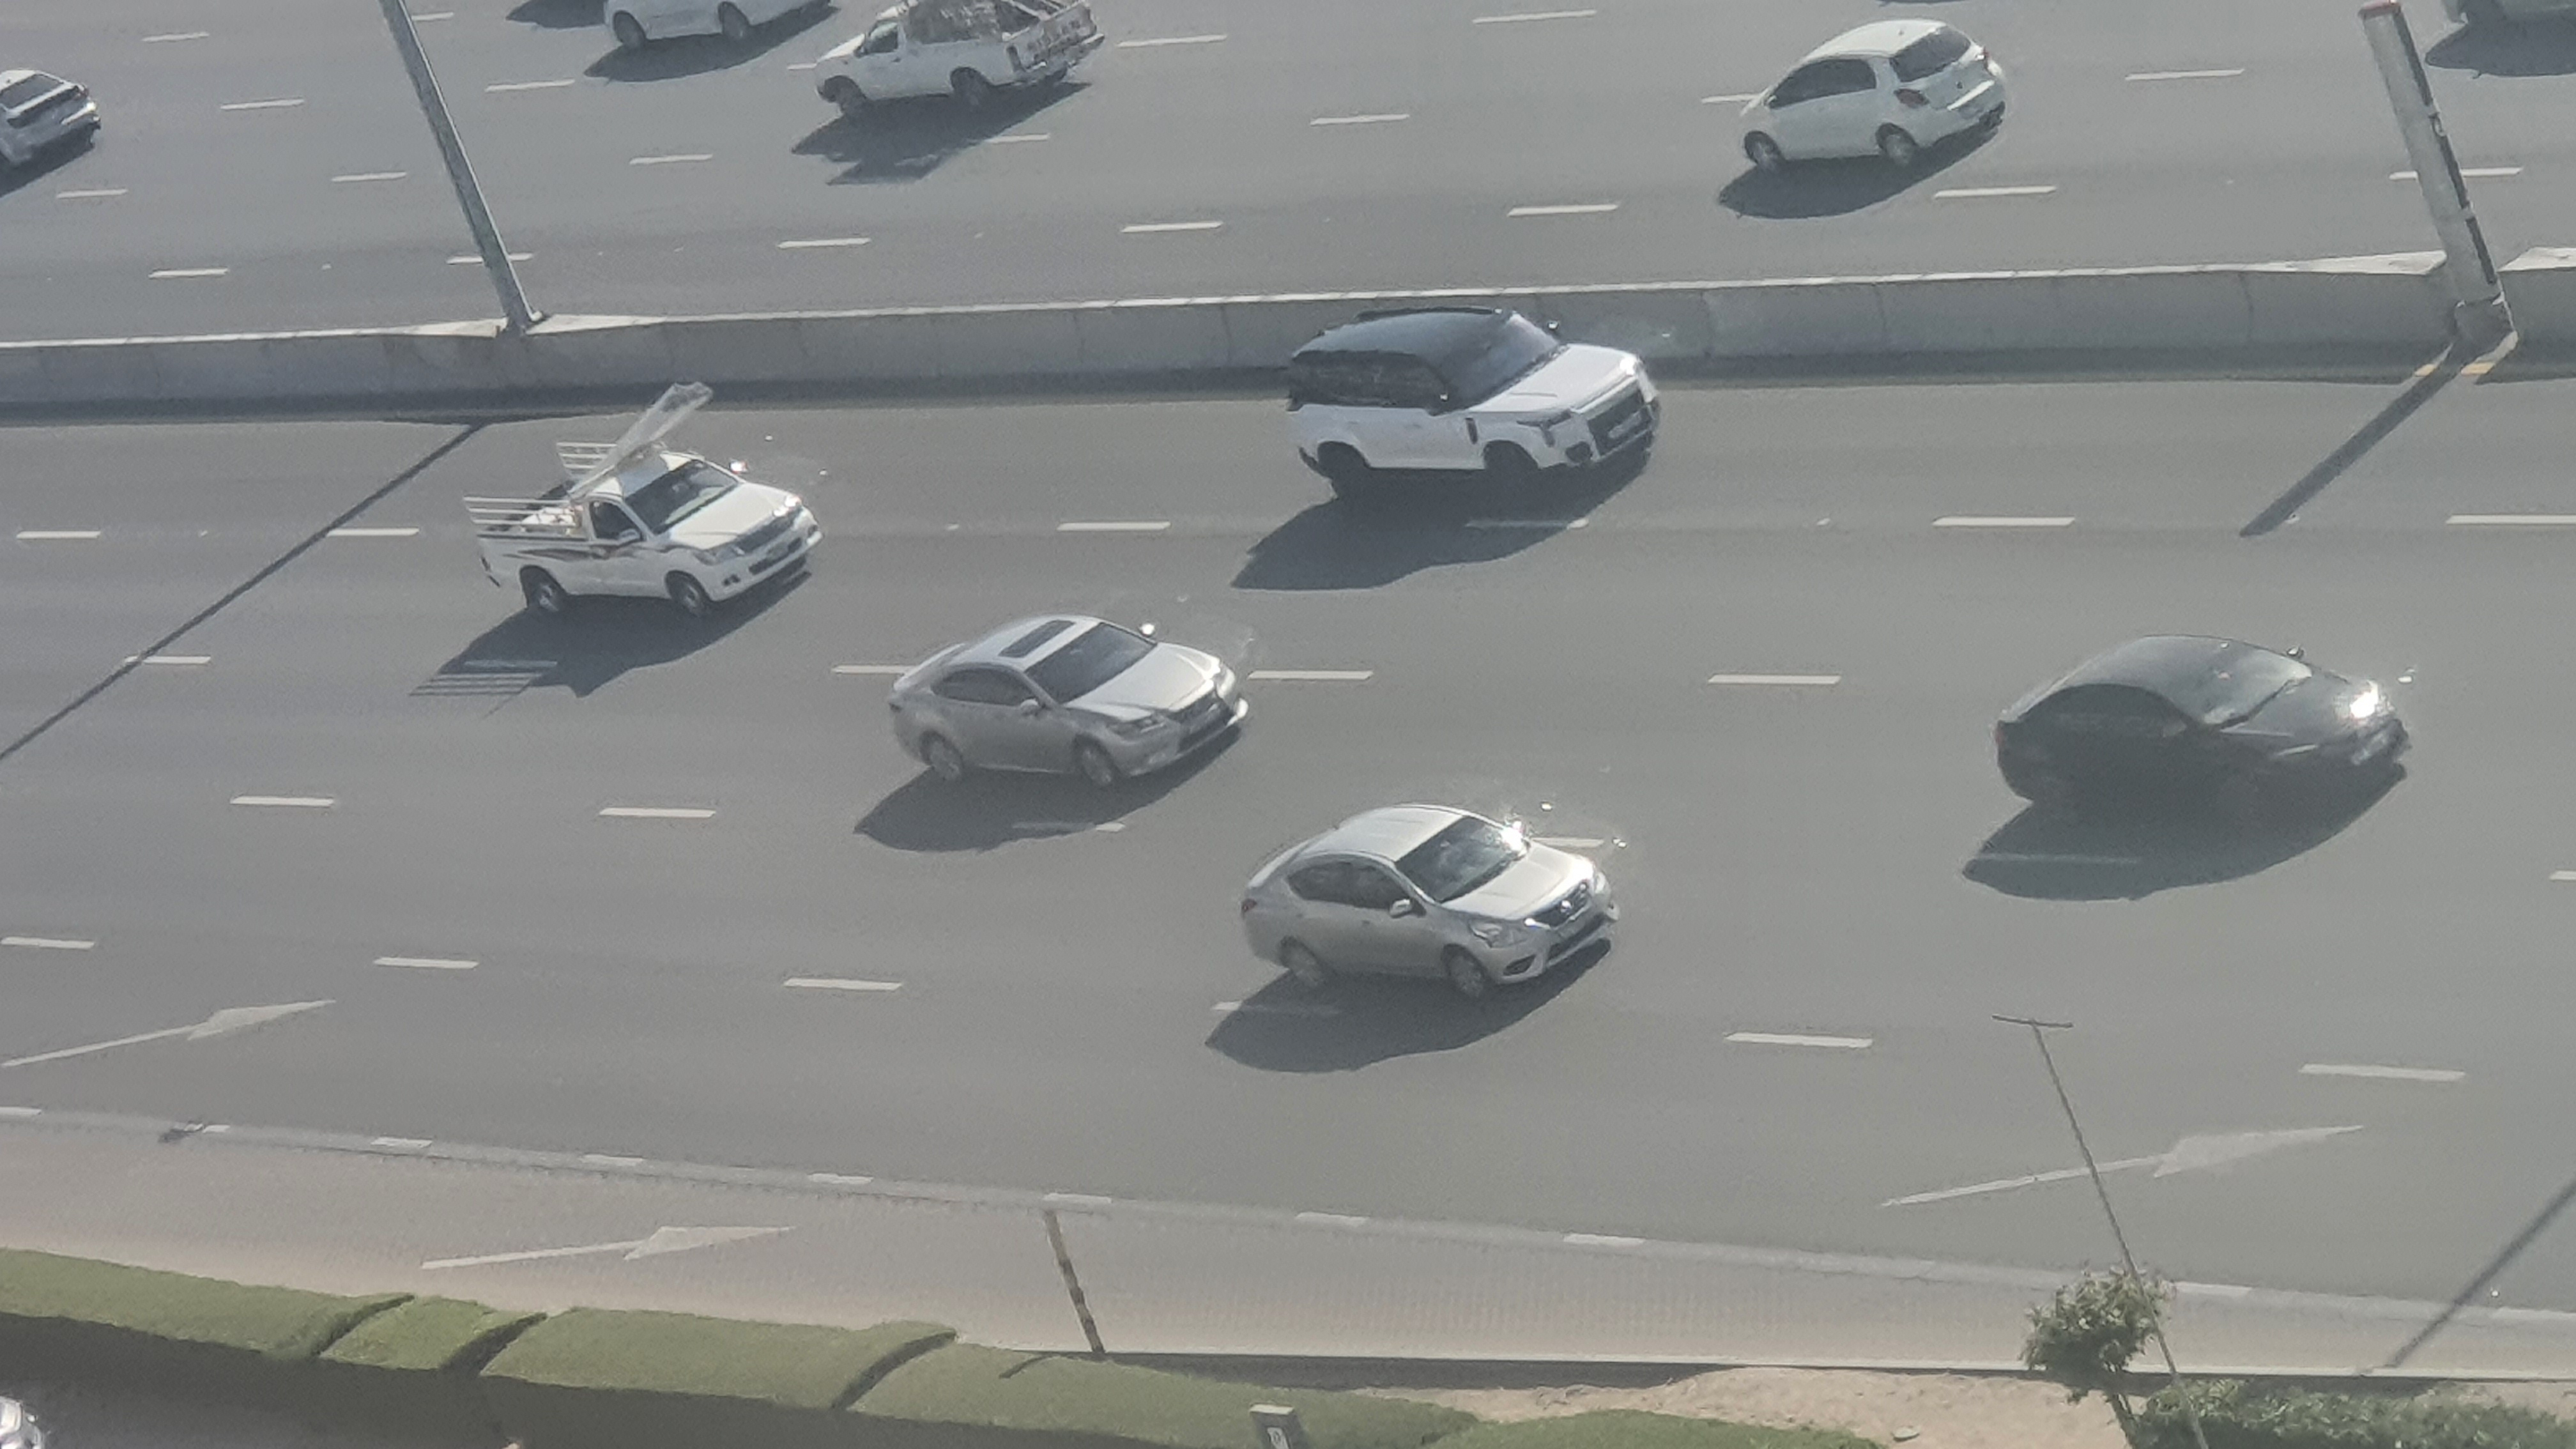NotSunroof: (1992, 635, 2417, 835), (1240, 810, 1617, 1000)
Sunroof: (1281, 303, 1683, 501), (883, 605, 1253, 800)
